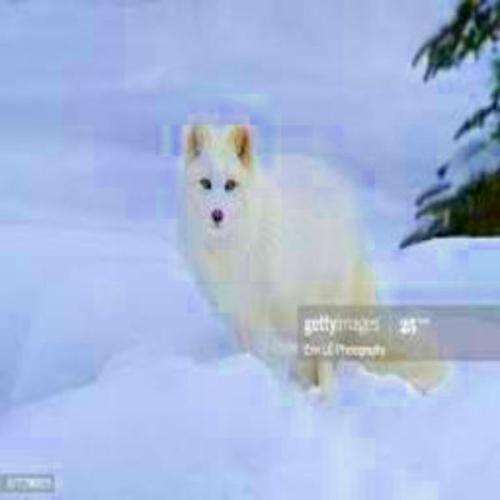arctic_fox-endangered: (182, 124, 448, 396)
